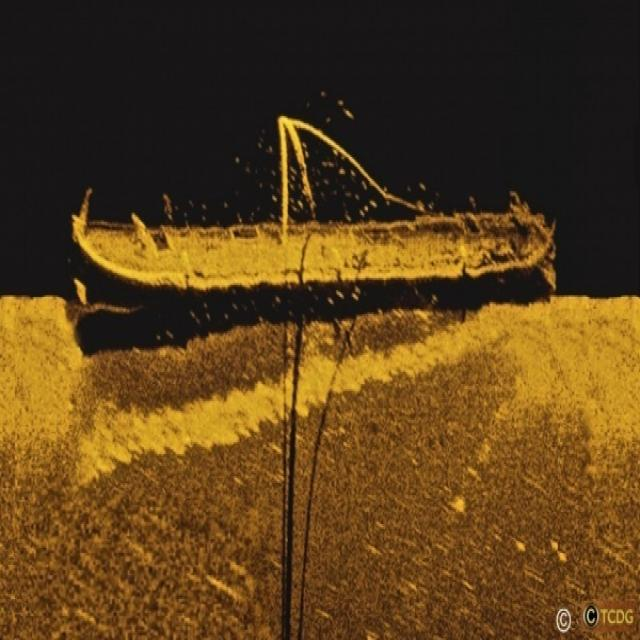ship: (67, 109, 562, 307)
